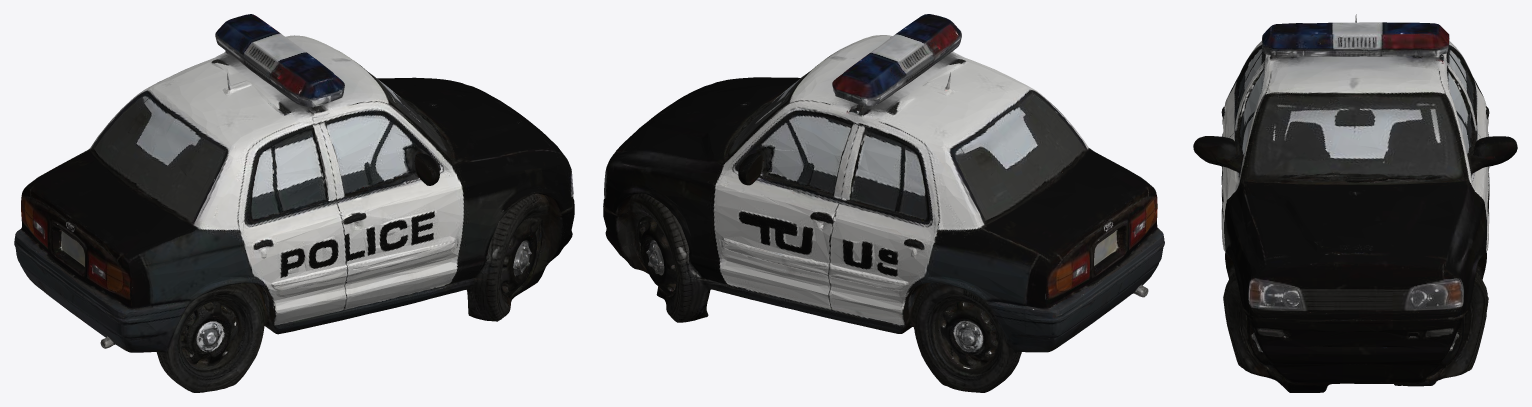
Rendered from car_police.glb.
3 views of the same model, side by side, from view 1: azimuth 30°, elevation 25°; view 2: azimuth 150°, elevation 25°; view 3: azimuth 270°, elevation 25° (orthographic). The views are drawn at different scales.
Parts seen in each view (by area): view 1: world; view 2: world; view 3: world.
Part boxes in pixels (box(x1,y1,x2,y2)): world: box(14, 14, 574, 392); world: box(603, 14, 1164, 392); world: box(1193, 14, 1517, 392).
Bounding box in the file's own units: 1.99 × 1.13 × 1.23.
1 material, 1 textured.
